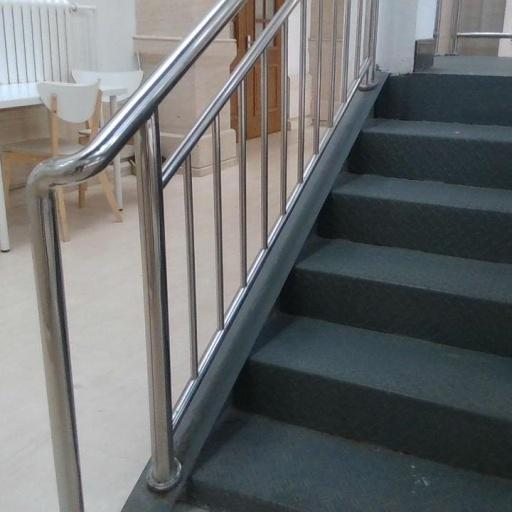stairs: (188, 75, 511, 511)
